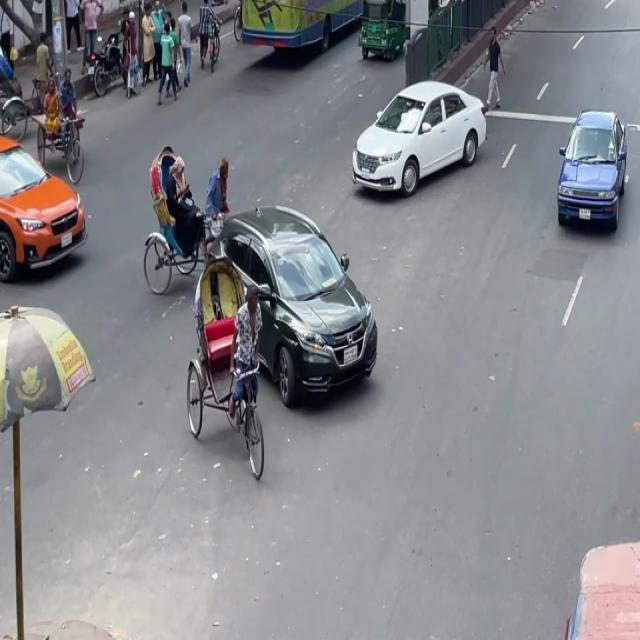car: (207, 195, 384, 413), (346, 60, 490, 207), (0, 142, 92, 288), (552, 100, 634, 244)
rickshaw: (346, 0, 412, 68)
